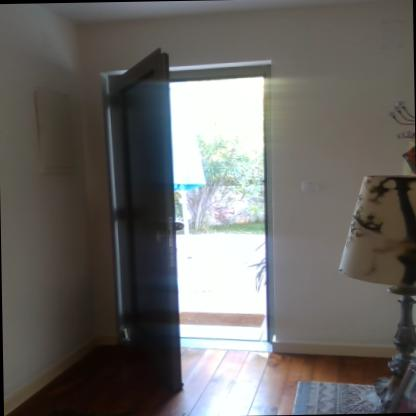semi: (97, 41, 284, 390)
